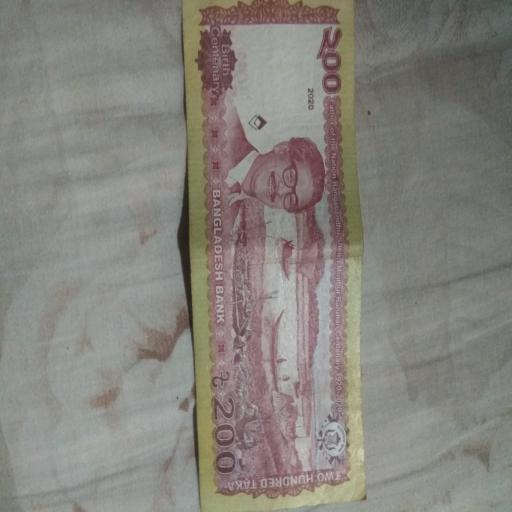200taka: (182, 0, 365, 512)
